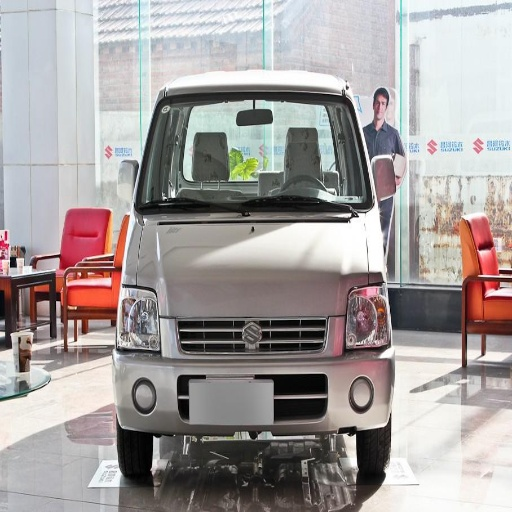front_bumper: (117, 316, 393, 456)
front_right_light: (115, 284, 160, 353)
hood: (127, 216, 368, 343)
